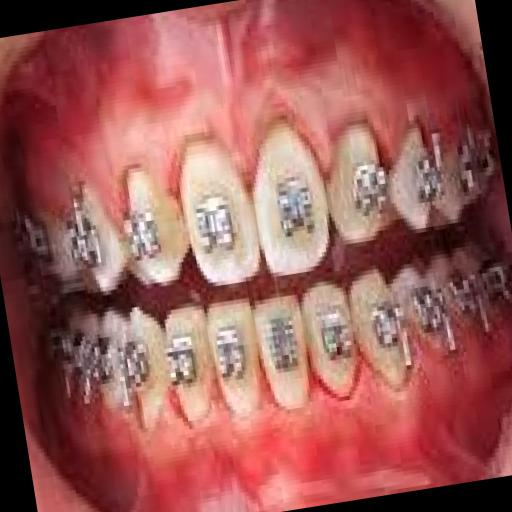correct_brace: (184, 180, 244, 267), (264, 160, 320, 249), (343, 151, 393, 228), (258, 302, 304, 382), (120, 198, 165, 274), (212, 316, 250, 394), (312, 310, 358, 370), (70, 211, 112, 275), (164, 326, 202, 394), (366, 293, 408, 352), (406, 144, 442, 208), (122, 336, 154, 398)
incorrect_brace: (311, 104, 395, 256), (113, 145, 187, 298), (295, 276, 362, 411), (158, 297, 220, 428)
